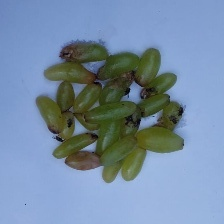grapes: (6, 23, 204, 181)
